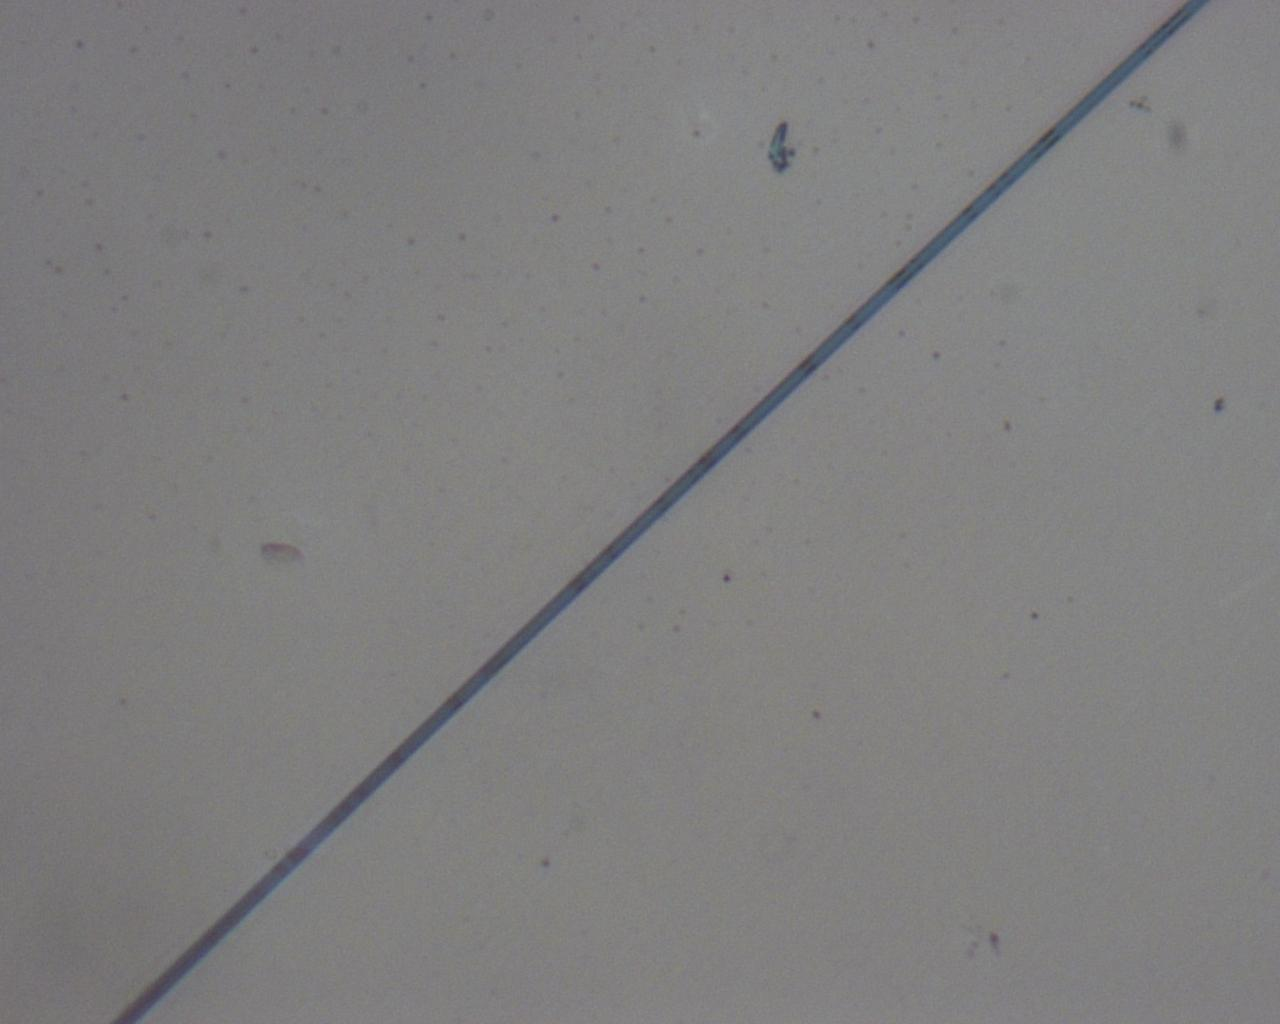fiber: (475, 512, 664, 1024), (994, 512, 1169, 1024), (1142, 0, 1280, 512), (0, 378, 310, 512)
